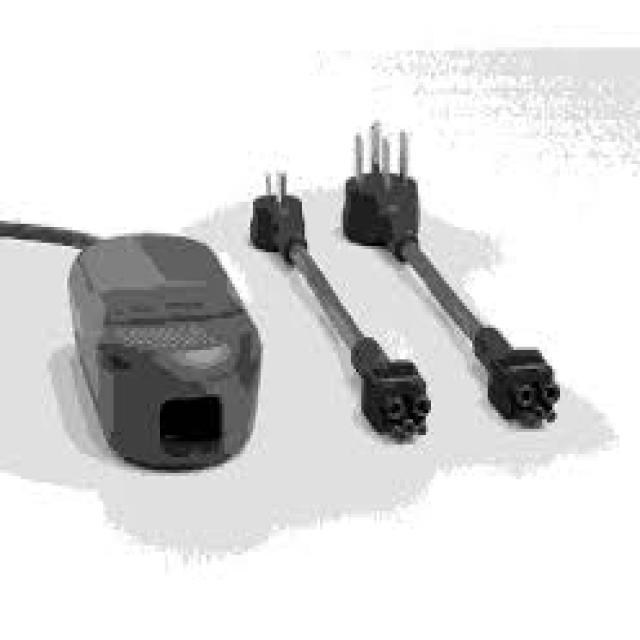power_bank: (67, 228, 270, 478)
